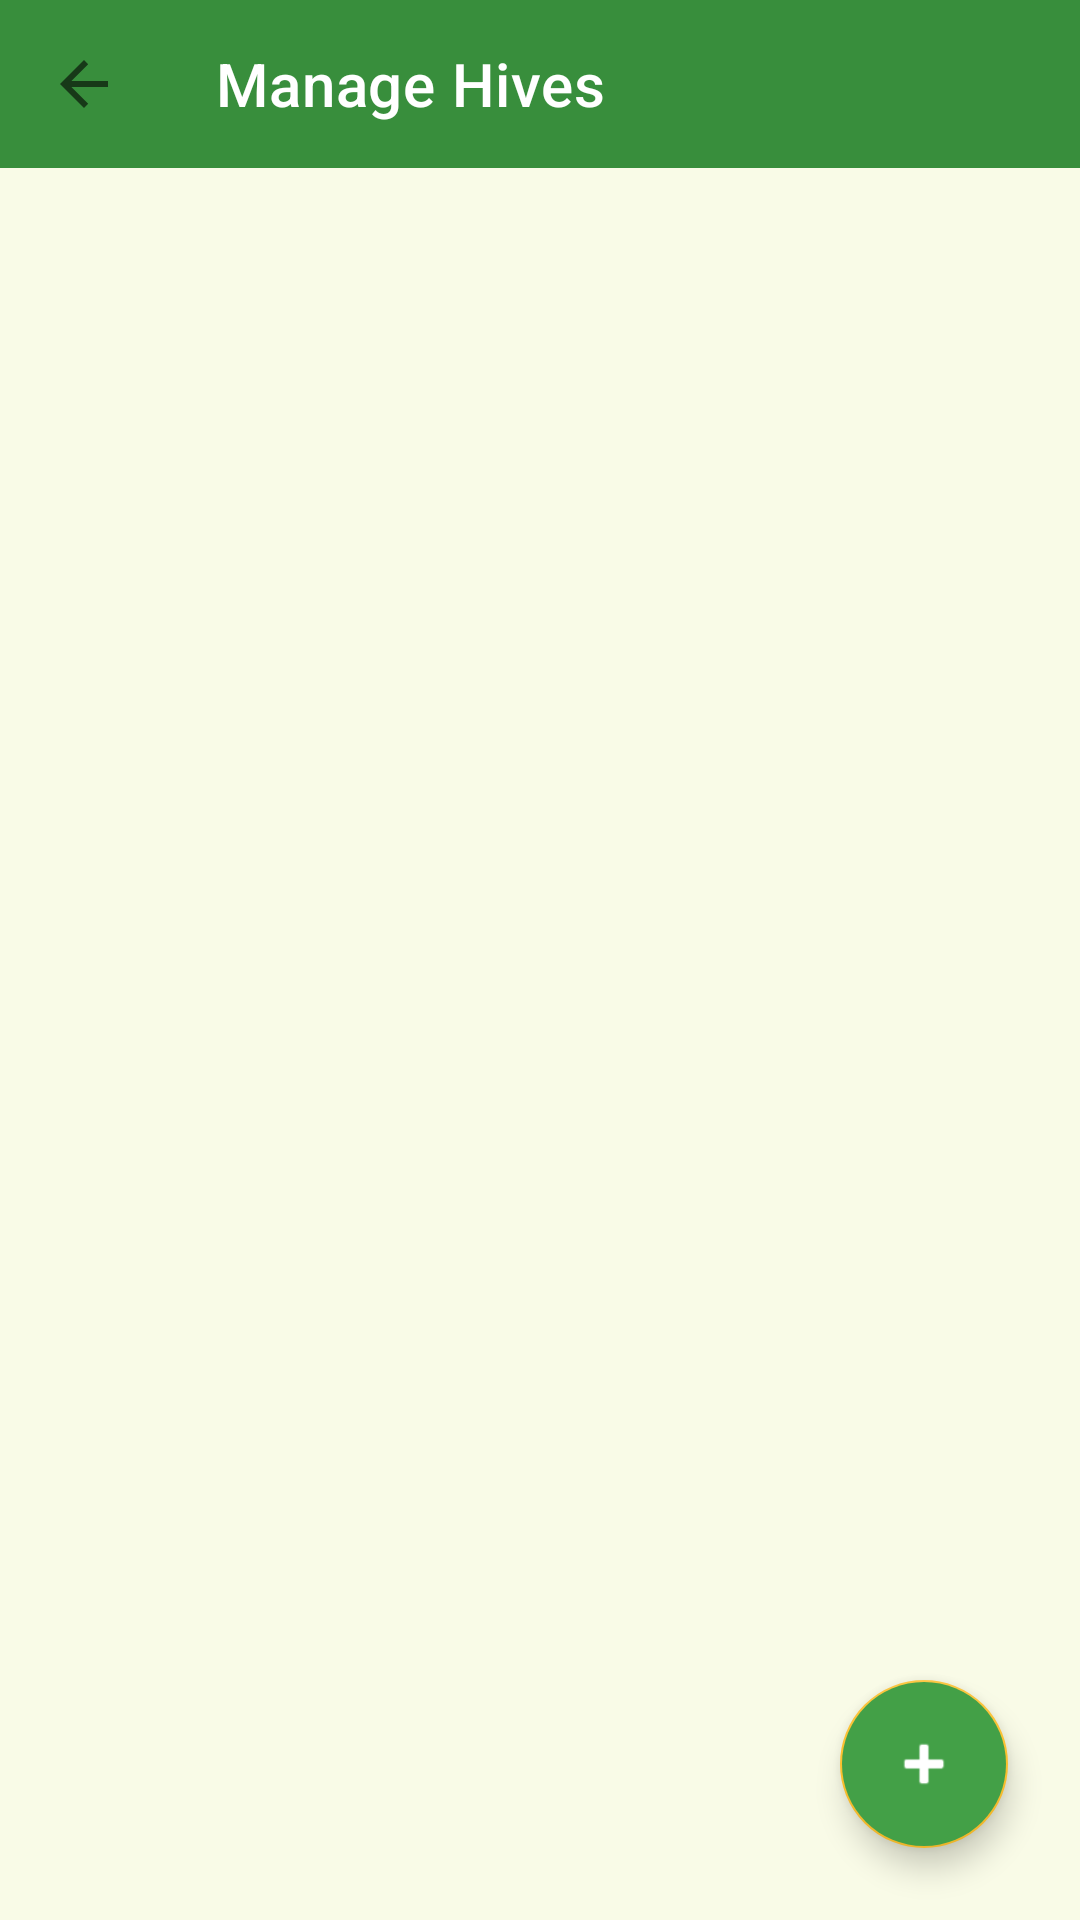

Named icons in this screenshot (1080x1920) and their bounding boxes, [left=x1, top=y1, right=x2, bottom=y2]:
Add Hive: [left=840, top=1680, right=1008, bottom=1848]
